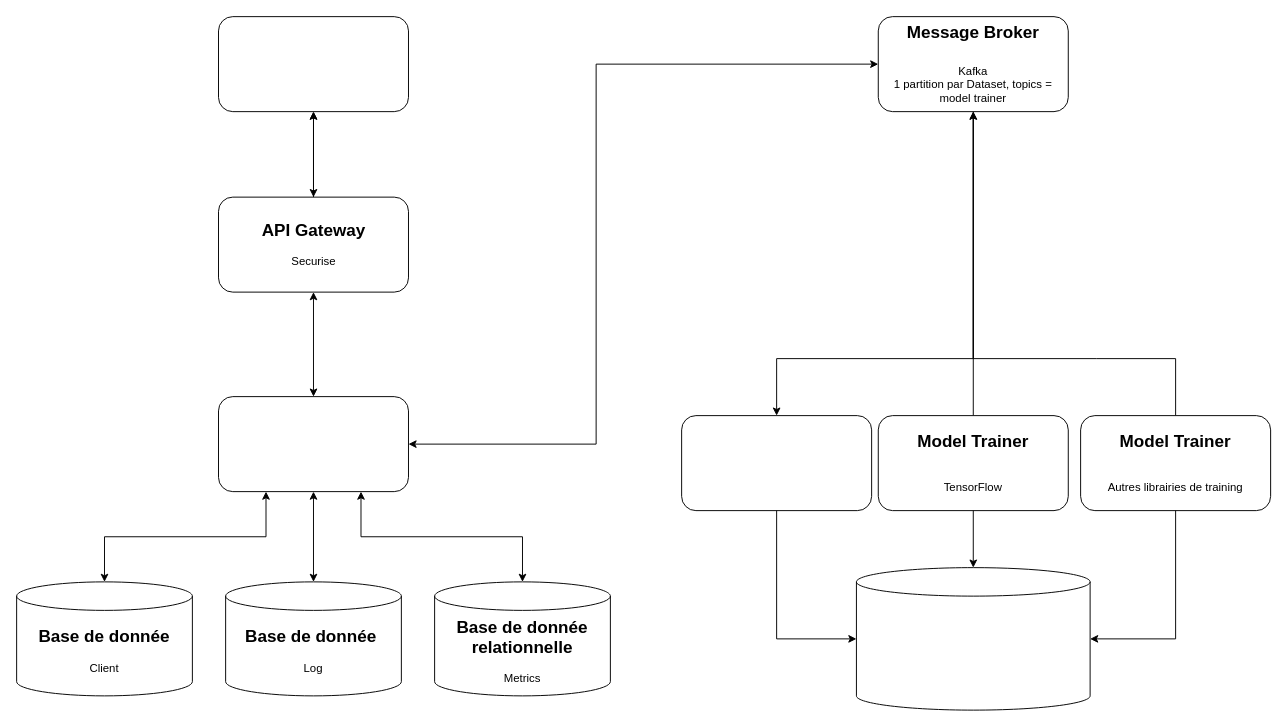
Image size: 1287x727. Some labels were removed from this diagram. Here are the shapes that lost their labels. From the top down, the box of each, then its label:
(218, 16, 408, 112): FrontEnd Vue.js ou autre
(218, 396, 408, 492): API FastAPI
(681, 415, 872, 511): Model Trainer PyTorch
(855, 567, 1090, 710): Volume Datasets CIFAR 100, Fashion MNIST, ...
